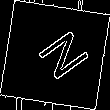N_SW: (23, 24, 87, 86)
